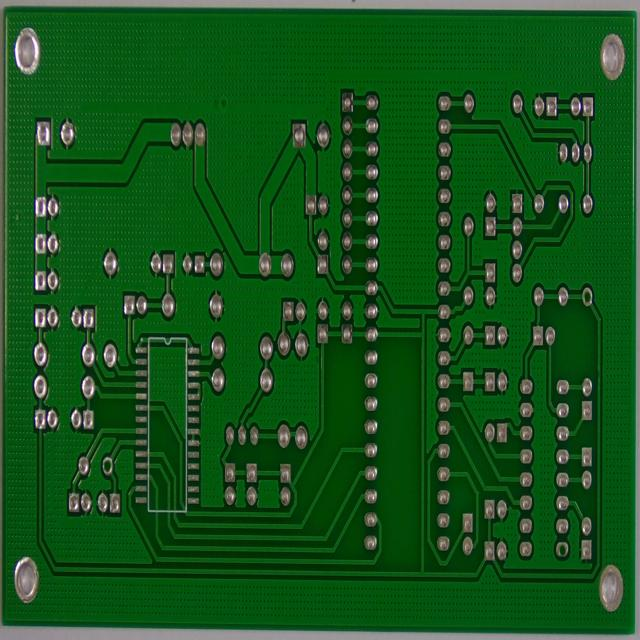missing_hole: (581, 282, 594, 309), (101, 453, 113, 477), (556, 539, 569, 561)
